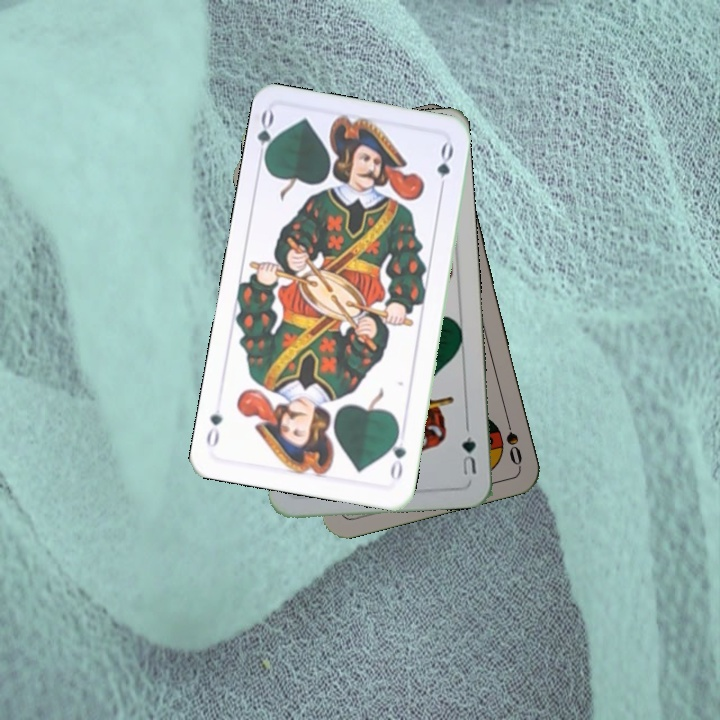GO: (253, 107, 281, 167), (386, 425, 409, 484)
GU: (457, 432, 479, 478)
SO: (500, 409, 525, 468)
